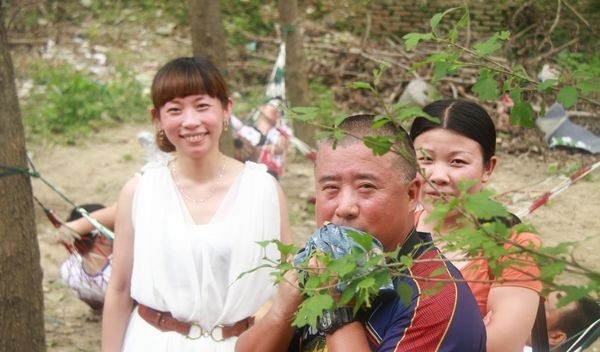face: (314, 141, 392, 244), (414, 137, 473, 218), (162, 89, 217, 152)
